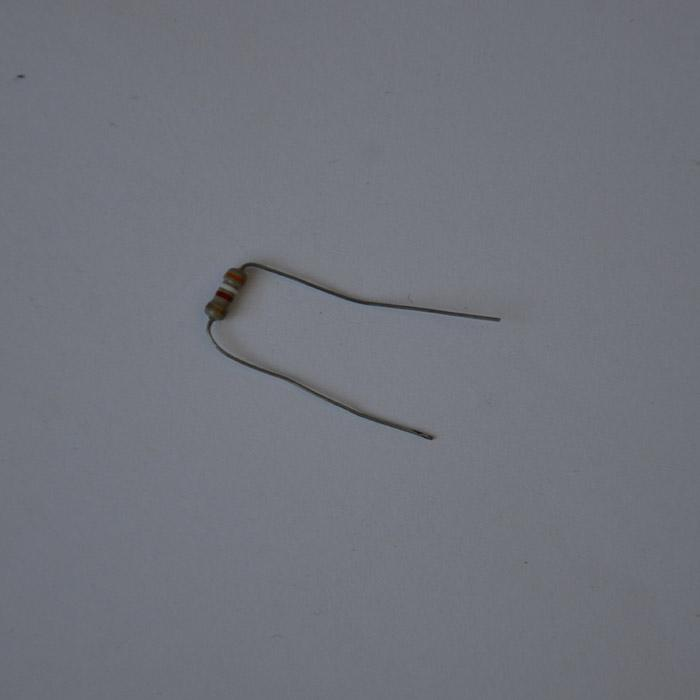resistor: (204, 266, 248, 322)
